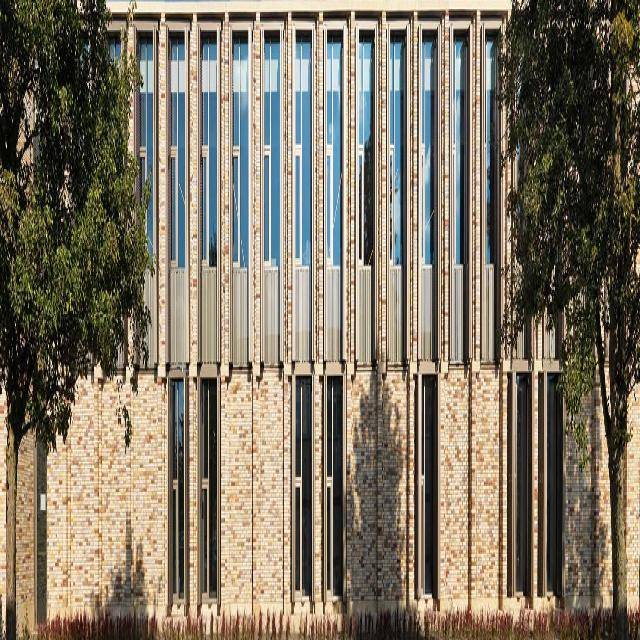door: (34, 438, 48, 632)
plant: (0, 0, 155, 638), (496, 0, 640, 634)
wall: (0, 0, 640, 638)
windows: (326, 30, 342, 270), (419, 42, 436, 262), (420, 373, 437, 591), (295, 372, 311, 598), (326, 380, 342, 596), (168, 370, 183, 597), (233, 36, 248, 263), (201, 366, 216, 592), (265, 36, 280, 262), (546, 375, 561, 588), (170, 30, 184, 257), (203, 26, 217, 252), (295, 35, 309, 261), (454, 39, 468, 265), (516, 367, 530, 589), (391, 40, 405, 260), (358, 45, 372, 262), (140, 35, 153, 247), (484, 42, 496, 265)
